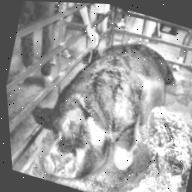boar: (10, 7, 192, 192)
